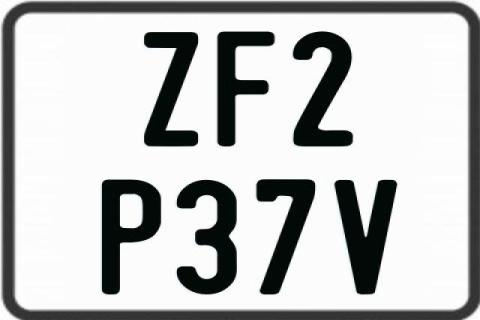0: (290, 29, 355, 149), (176, 178, 238, 296), (253, 177, 315, 295)
F: (217, 31, 281, 146)
P: (100, 177, 159, 293)
V: (333, 179, 399, 295)
Z: (143, 32, 199, 150)
